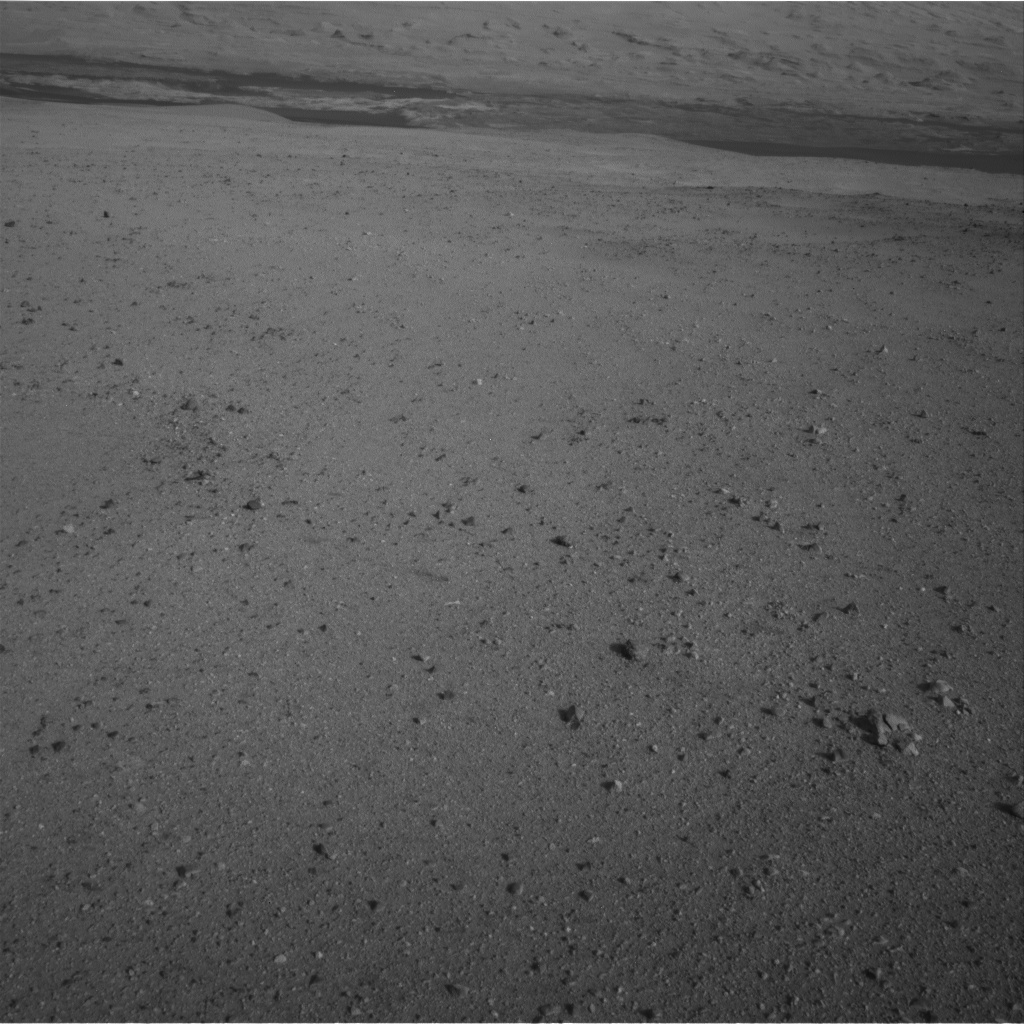soil: (7, 234, 1017, 1018)
